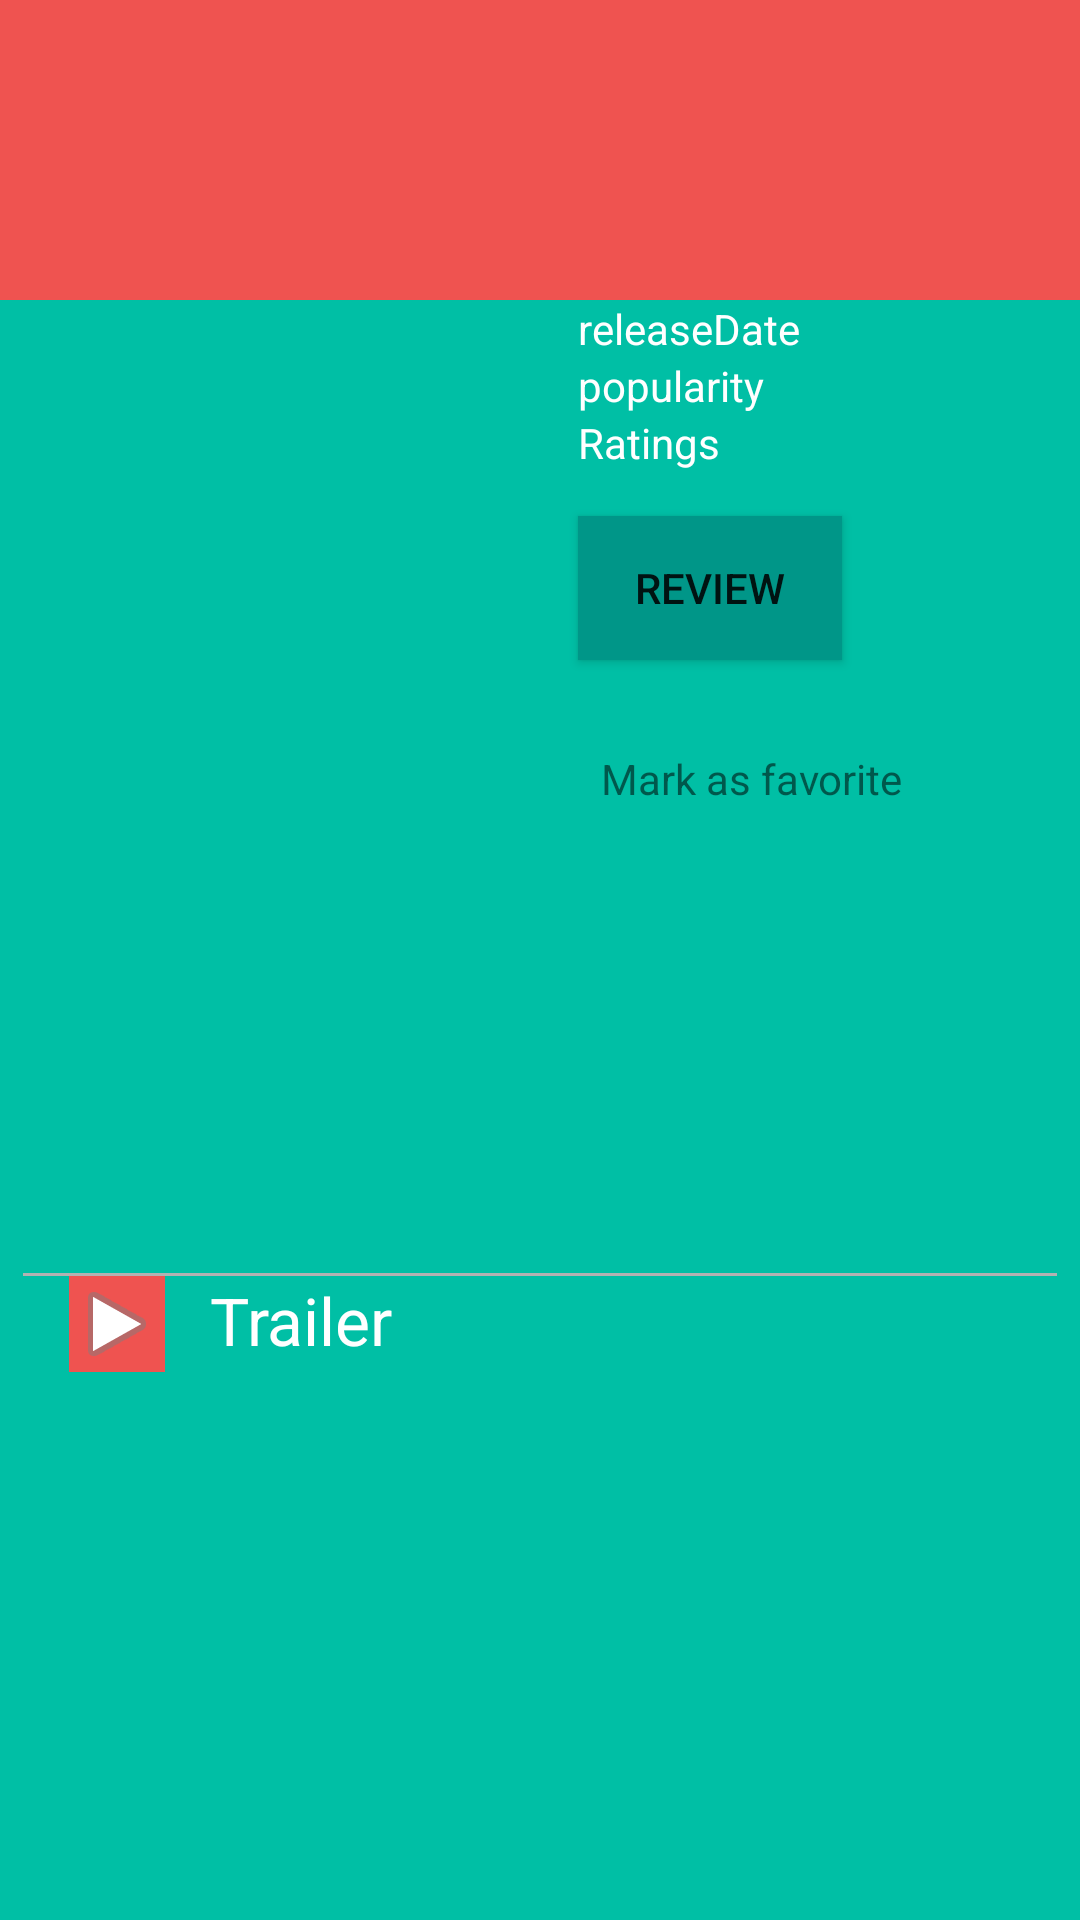

Icon click points for this 1080*1920 phone screenshot, format (x=x, y=y):
play: (x=117, y=1324)
